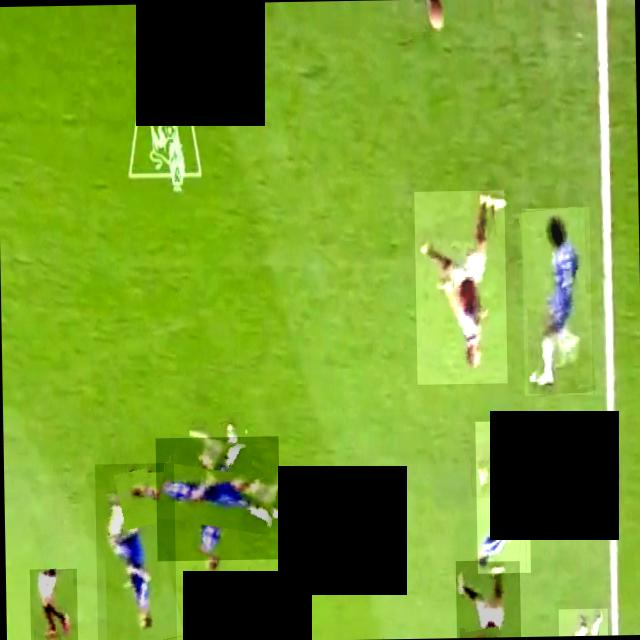ball: (469, 458, 488, 496)
soccer-player: (413, 188, 506, 384), (154, 435, 279, 560), (93, 462, 175, 640), (520, 205, 591, 394), (474, 419, 530, 572), (454, 558, 520, 638), (28, 567, 76, 640), (558, 607, 606, 636)
